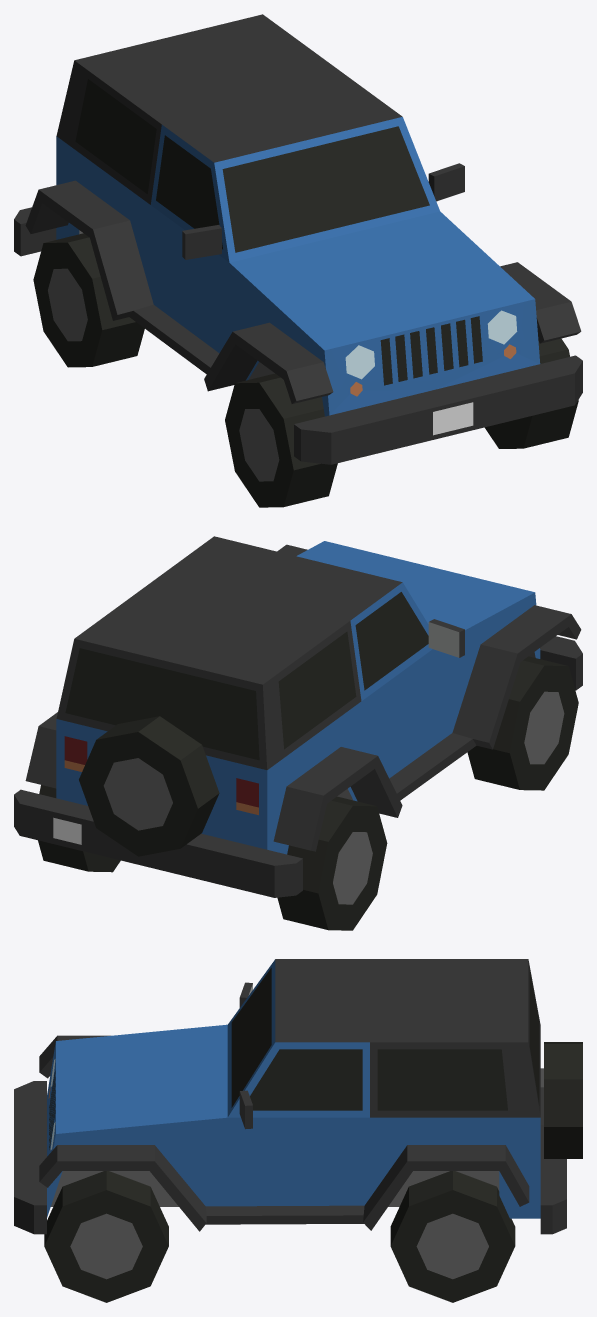
The model's file is Veh_SUV_03_Blue.glb.
The picture shows the model from 3 angles, top to bottom: view 1: azimuth 30°, elevation 25°; view 2: azimuth 150°, elevation 25°; view 3: azimuth 270°, elevation 25°; orthographic projection. The views are drawn at different scales.
Visible parts, largest first — view 1: SUV_03_Blue, Wheel_FR, Wheel_RR, Wheel_FL; view 2: SUV_03_Blue, Wheel_RR, Wheel_FR, Wheel_RL; view 3: SUV_03_Blue, Wheel_RL, Wheel_FL.
Part boxes in pixels (x1,y1,x2,y2): SUV_03_Blue: [14, 14, 582, 464]; Wheel_FR: [225, 373, 337, 507]; Wheel_RR: [33, 233, 144, 367]; Wheel_FL: [484, 338, 578, 448]; SUV_03_Blue: [14, 536, 582, 897]; Wheel_RR: [277, 796, 387, 930]; Wheel_FR: [467, 656, 578, 790]; Wheel_RL: [38, 785, 120, 872]; SUV_03_Blue: [14, 959, 582, 1234]; Wheel_RL: [390, 1171, 515, 1302]; Wheel_FL: [44, 1171, 168, 1302].
Size of the model in its own units: 1.19 by 1.06 by 2.28.
Materials: 1 (1 with a texture image).
